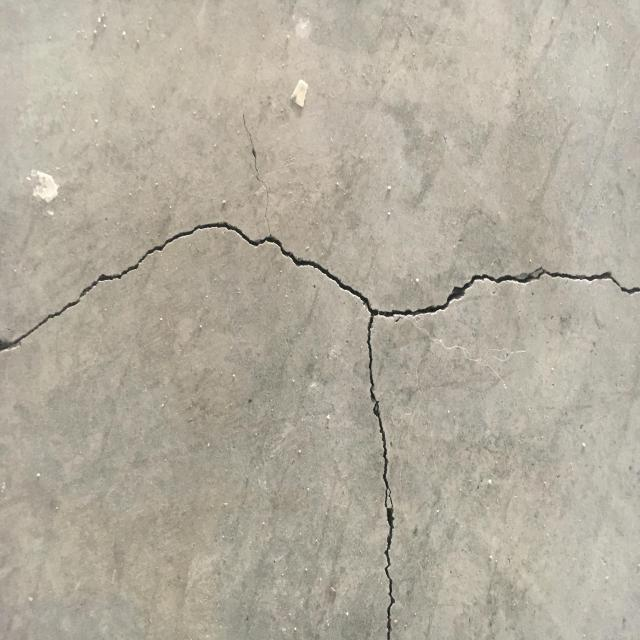SurfaceCrack: (0, 195, 633, 441)
